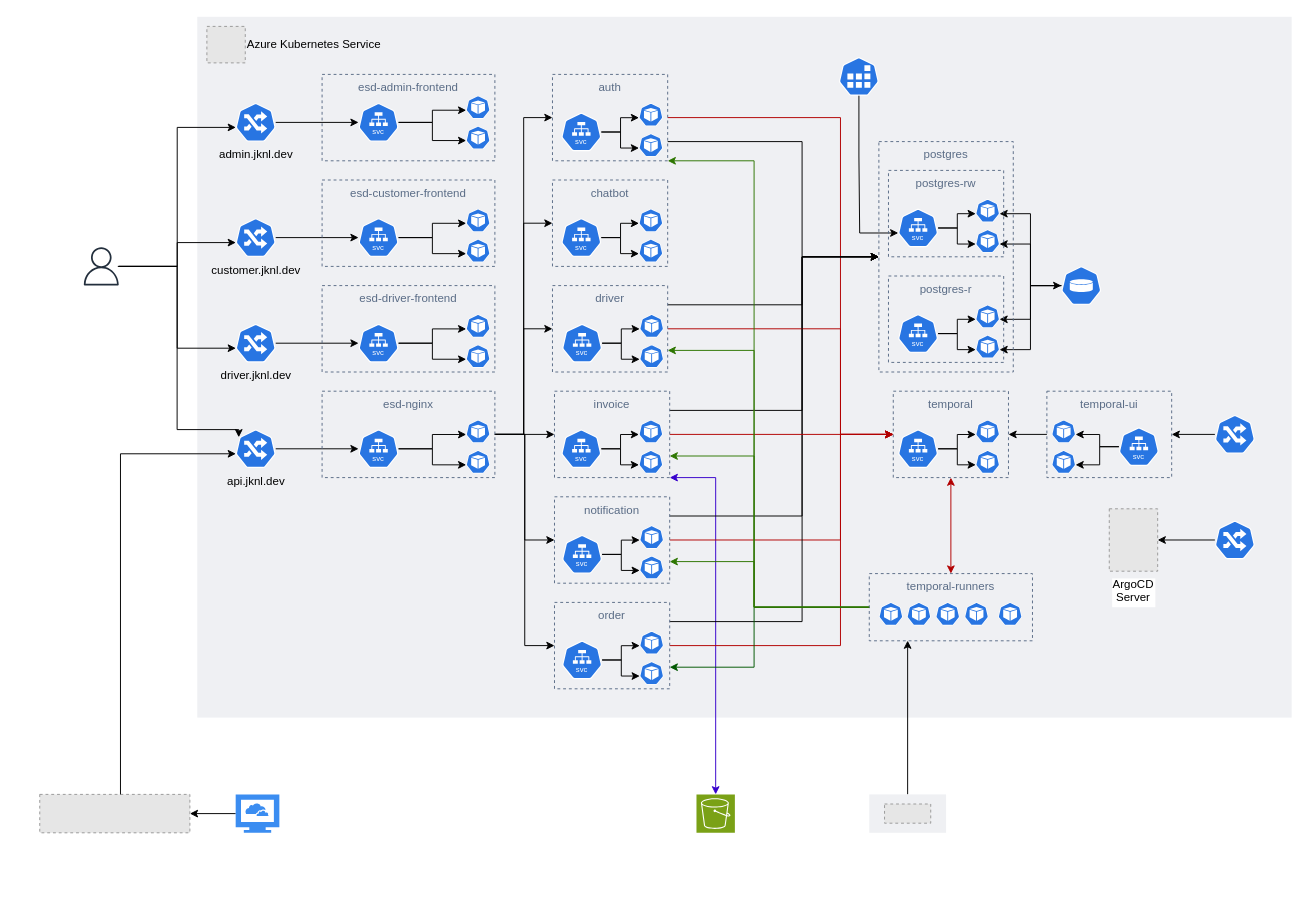
Image size: 1308x897. Some labels were removed from this diagram. Grey dashed boxes stand in for pictures. The centre of each missing label's shape, as x and y in pixels:
argocd.jknl.dev: pixel 1234 539
Database Seeder: pixel 858 76
Direct Users or B2C User: pixel 101 266
External System Or B2B users: pixel 257 813
Invoice PDF Storage: pixel 715 813
Shared Volume: pixel 1080 285
temporal.jknl.dev: pixel 1234 434
